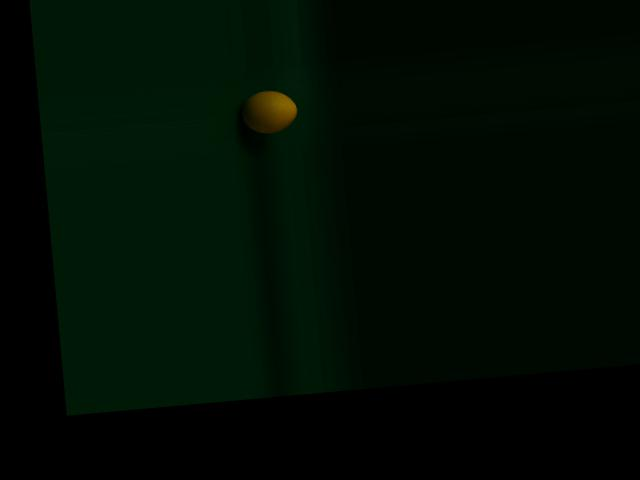egg: (239, 87, 299, 134)
